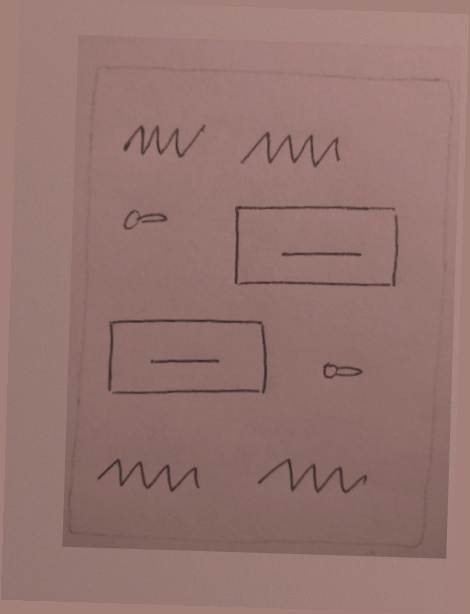button: (225, 195, 407, 299), (100, 311, 274, 404)
switch: (114, 199, 181, 240), (310, 352, 368, 389)
text: (248, 448, 378, 504), (234, 119, 347, 178), (92, 447, 206, 501), (116, 117, 212, 166)
